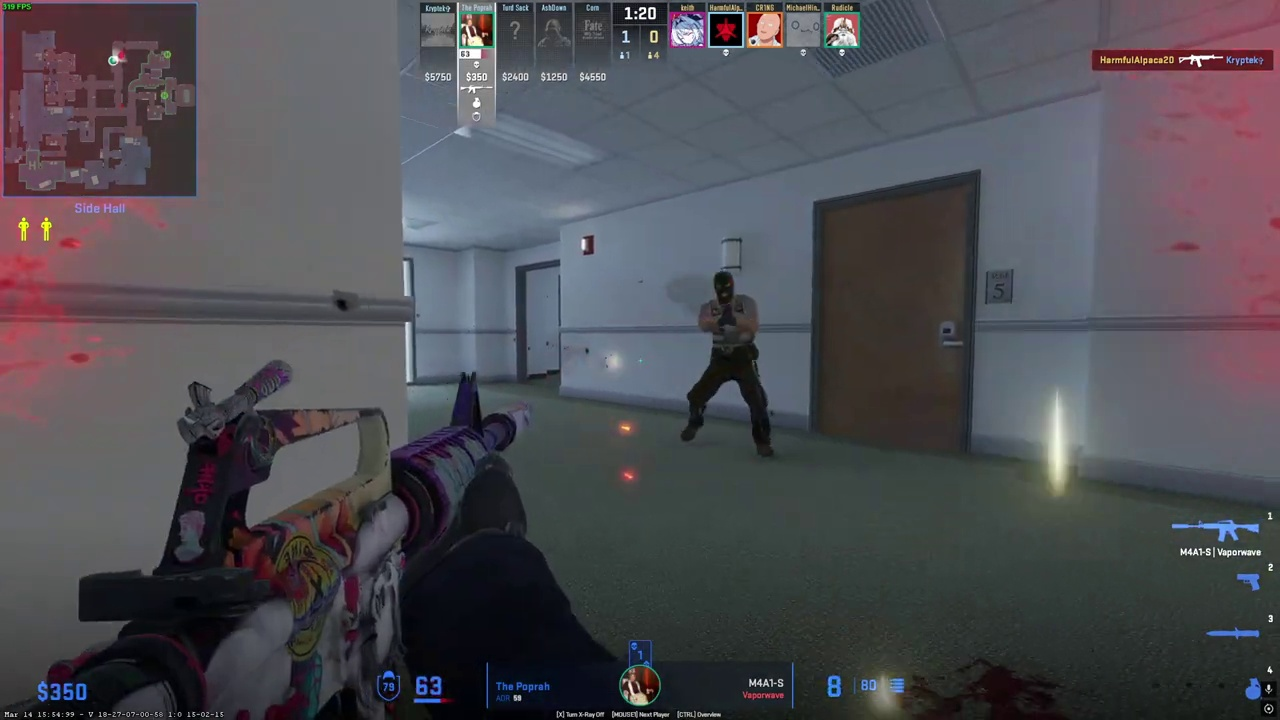Terrorist: (688, 268, 773, 458)
